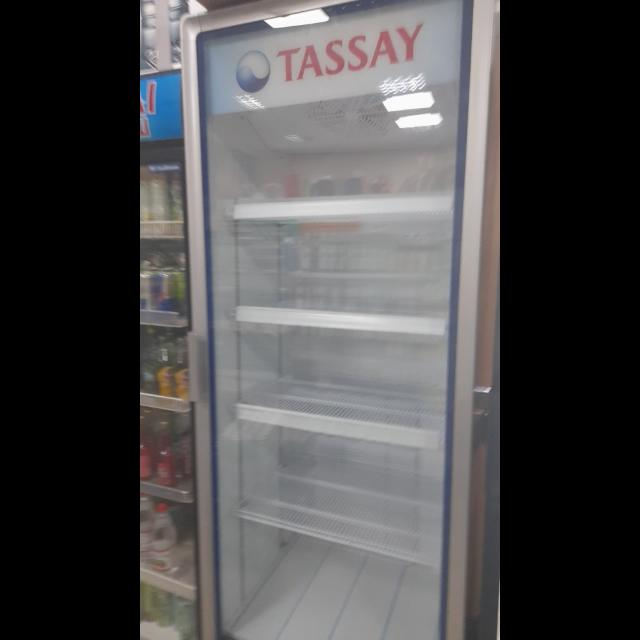Cooling-Display: (180, 1, 494, 640)
